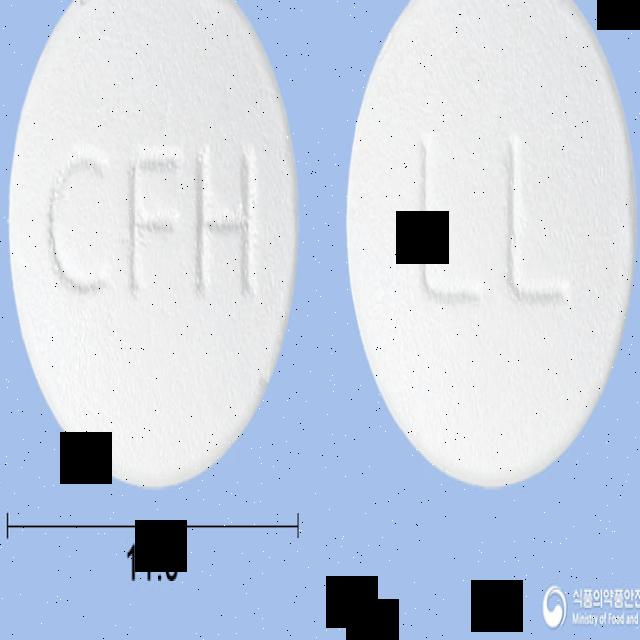Cyfloc: (343, 0, 637, 488), (7, 0, 299, 490)
